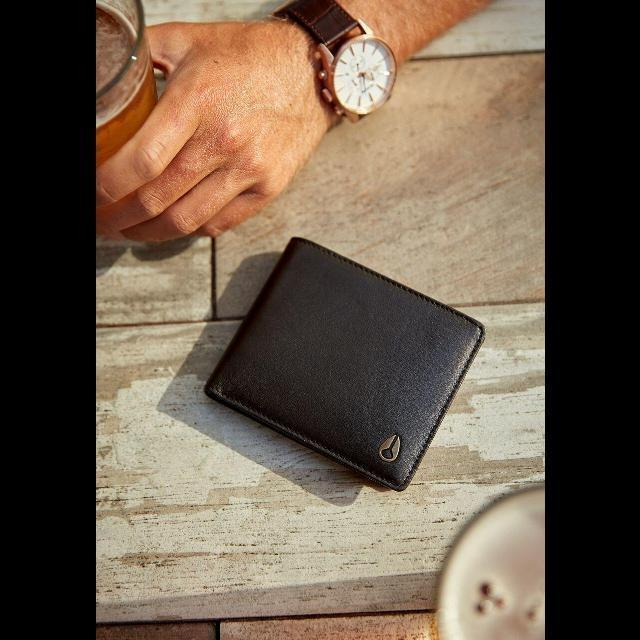Wallet: (204, 238, 483, 490)
